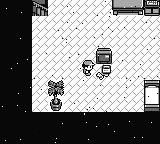leer: (95, 46, 114, 81), (144, 0, 160, 15)
main: (82, 59, 95, 77)
no-caminable: (1, 0, 160, 143), (143, 80, 160, 112), (48, 79, 64, 112), (112, 0, 143, 14)
puerta: (32, 0, 48, 16)
